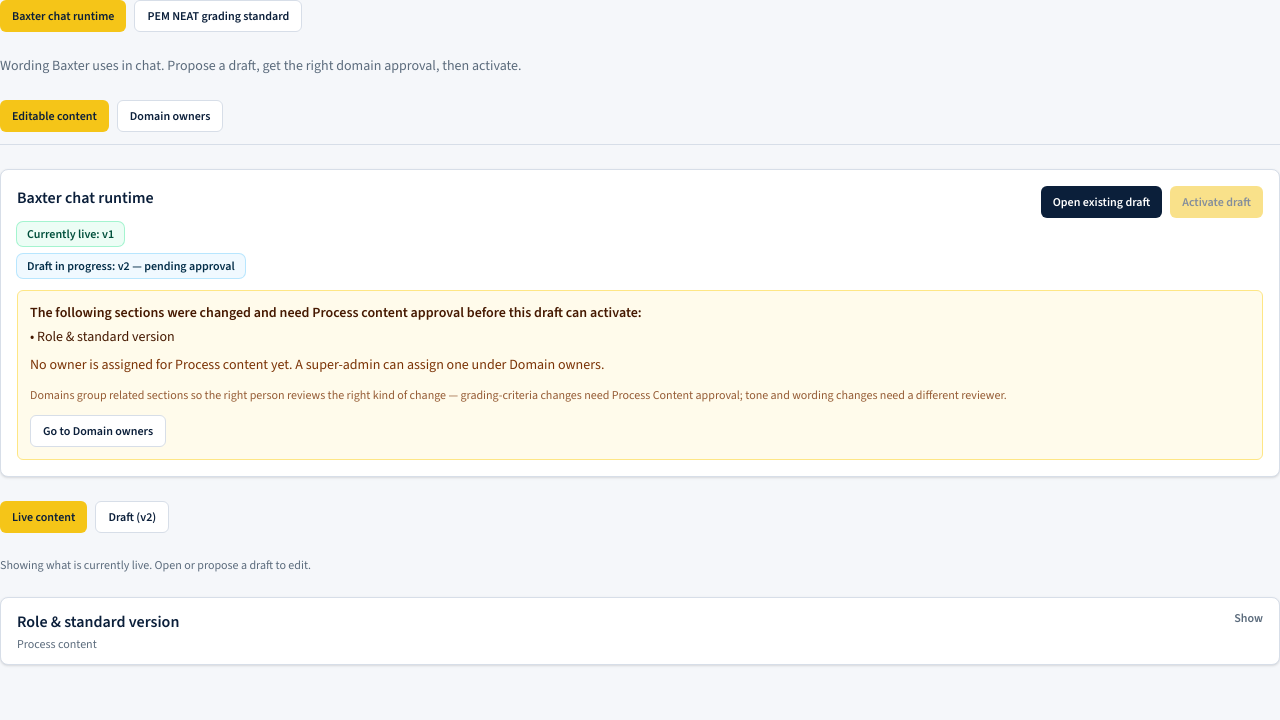
Test: GovernanceEditorClient UX › shows Approve for a super_admin
Expected: the text "Currently live: v1" is shown, [17,222,124,246]
Click the button with test id "governance-open-draft" at coordinates (1101, 202), box [1041,186,1162,218]
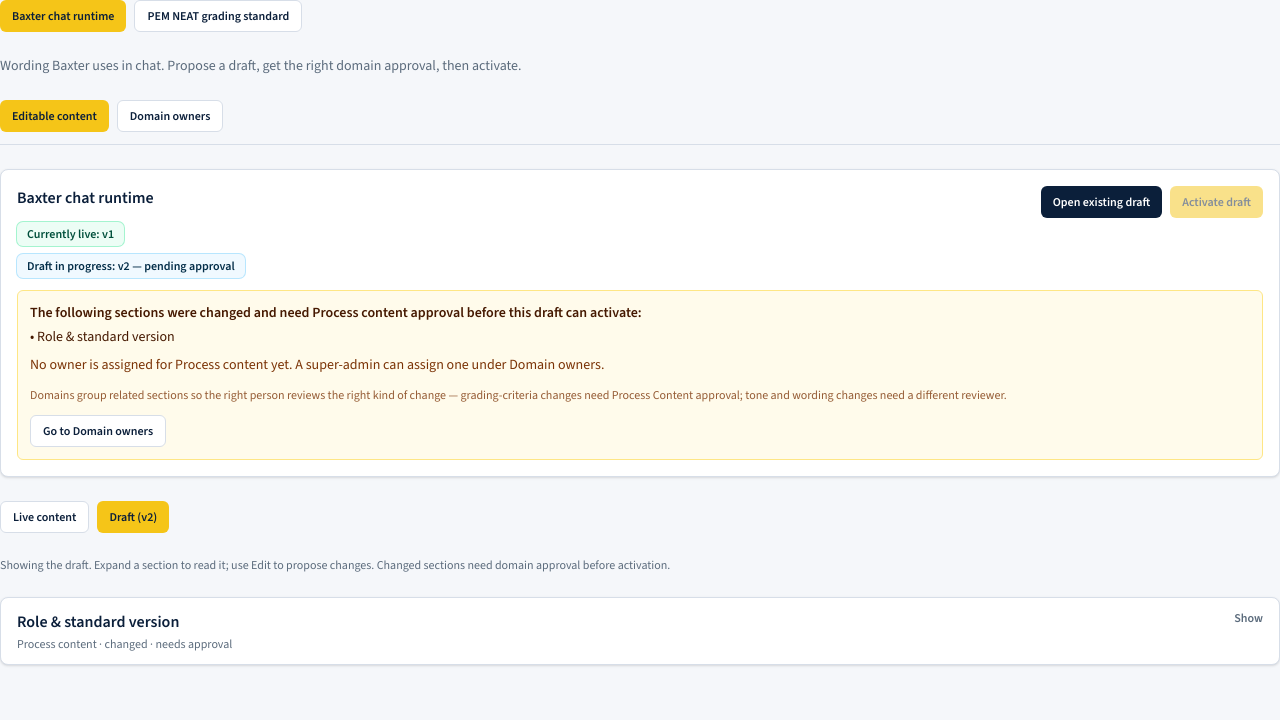
Click the button with test id "governance-section-pem_role" at coordinates (98, 622), box [1,598,1279,664]
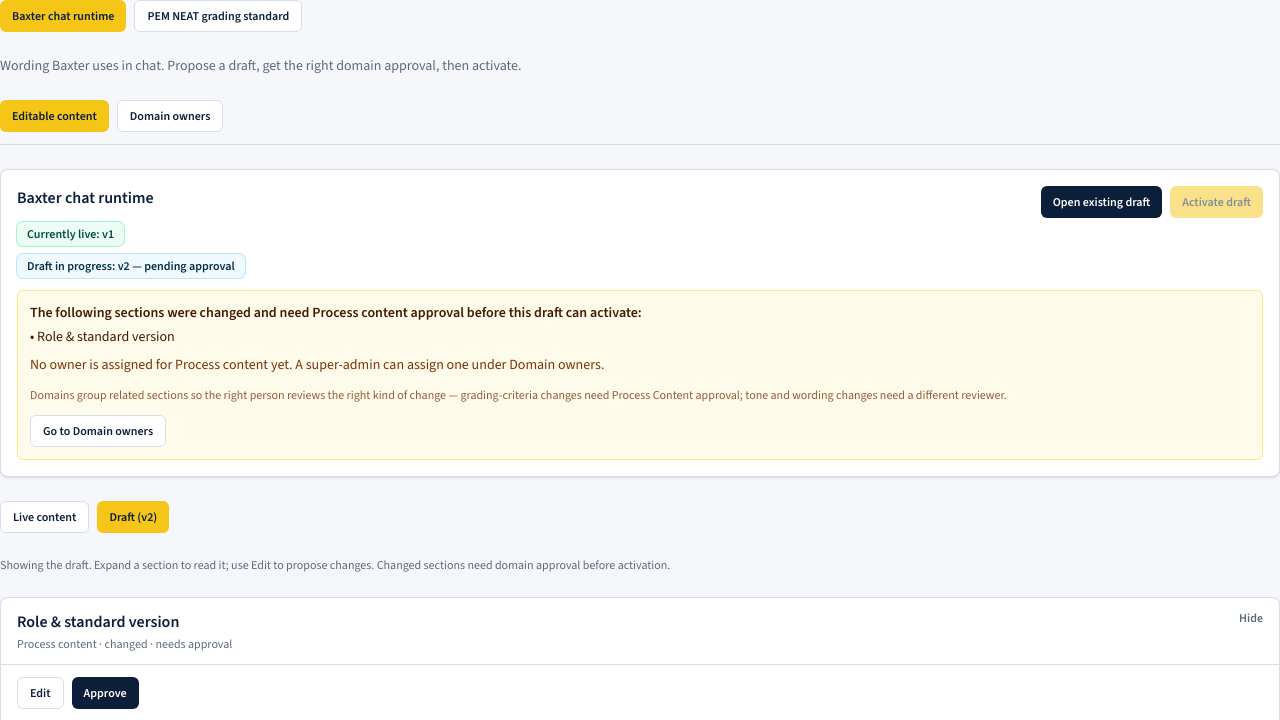
Result: the button with test id "governance-approve-pem_role" is shown at [72,677,139,709]
